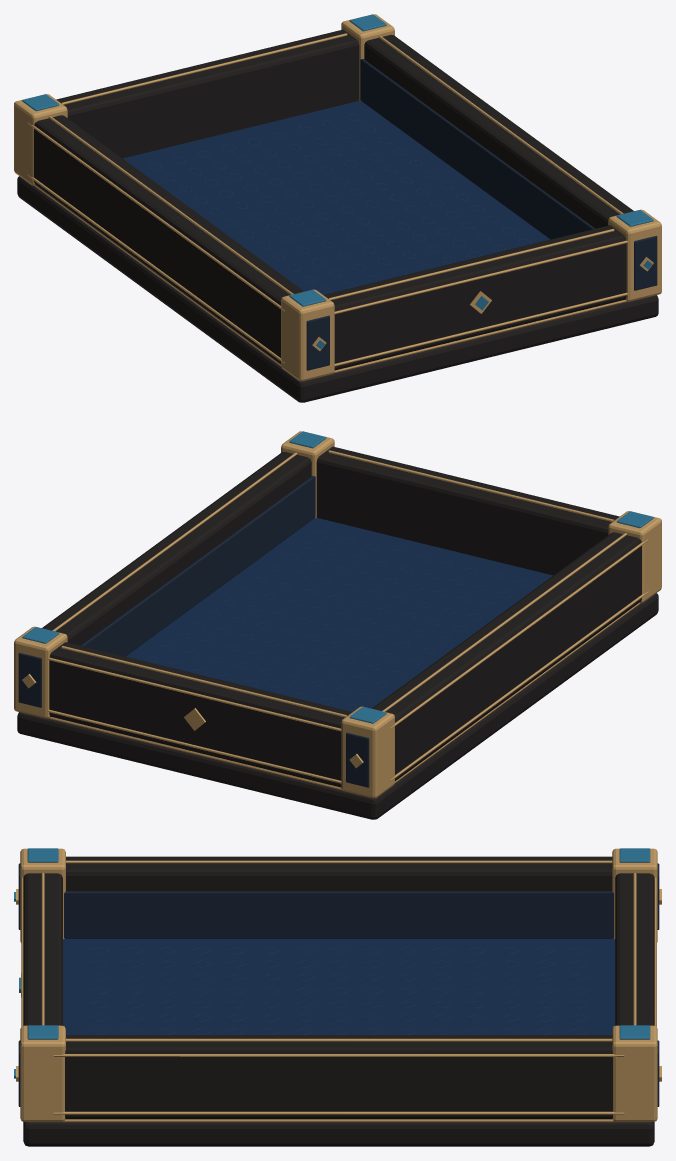
Rendered from shelf.glb.
3 views of the same model, one above another, from view 1: azimuth 30°, elevation 25°; view 2: azimuth 150°, elevation 25°; view 3: azimuth 270°, elevation 25° (orthographic). The views are drawn at different scales.
Visible parts, largest first — view 1: ShelfVisual; view 2: ShelfVisual; view 3: ShelfVisual.
Part boxes in pixels (bbox=[...]): ShelfVisual: bbox=[14, 14, 661, 402]; ShelfVisual: bbox=[14, 431, 661, 819]; ShelfVisual: bbox=[14, 848, 661, 1146].
Size of the model in its own units: 0.0982 by 0.0252 by 0.1366.
